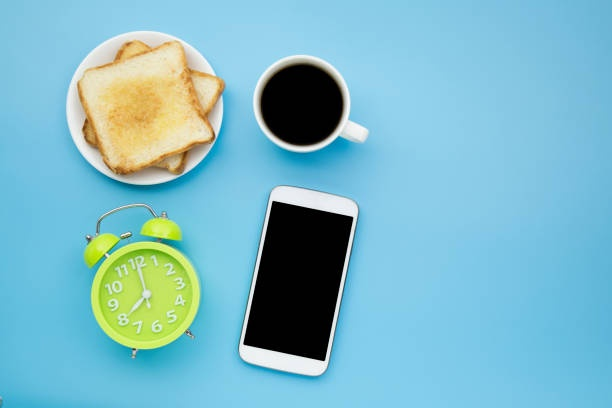phone: (237, 183, 362, 378)
